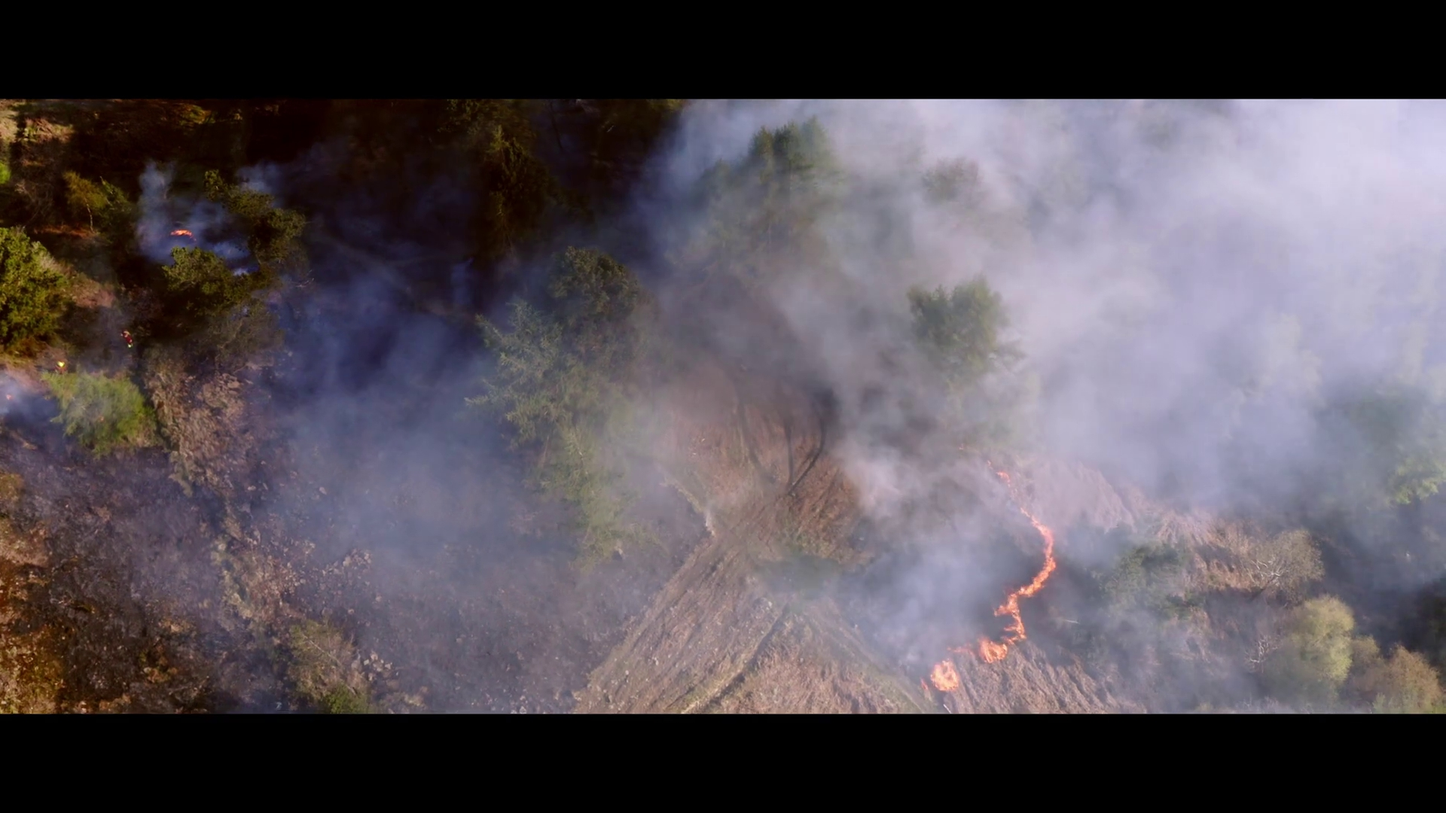forest_fire: (950, 504, 1056, 662), (929, 661, 960, 691), (996, 470, 1017, 497)
